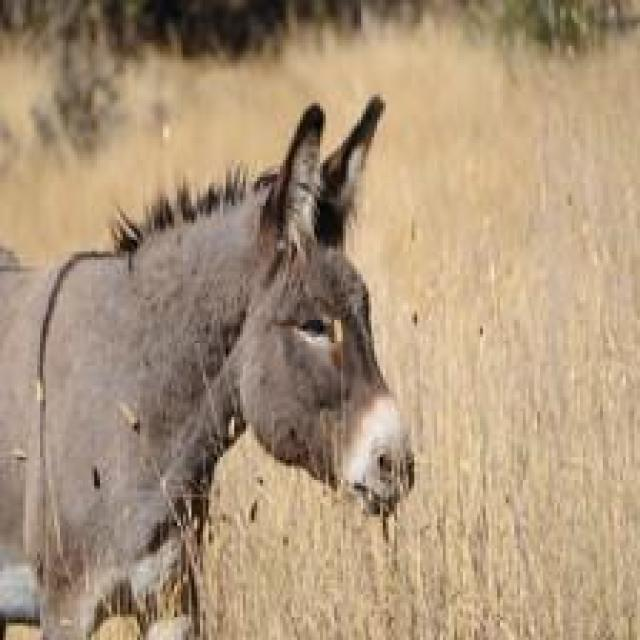Donkey: (0, 91, 414, 637)
